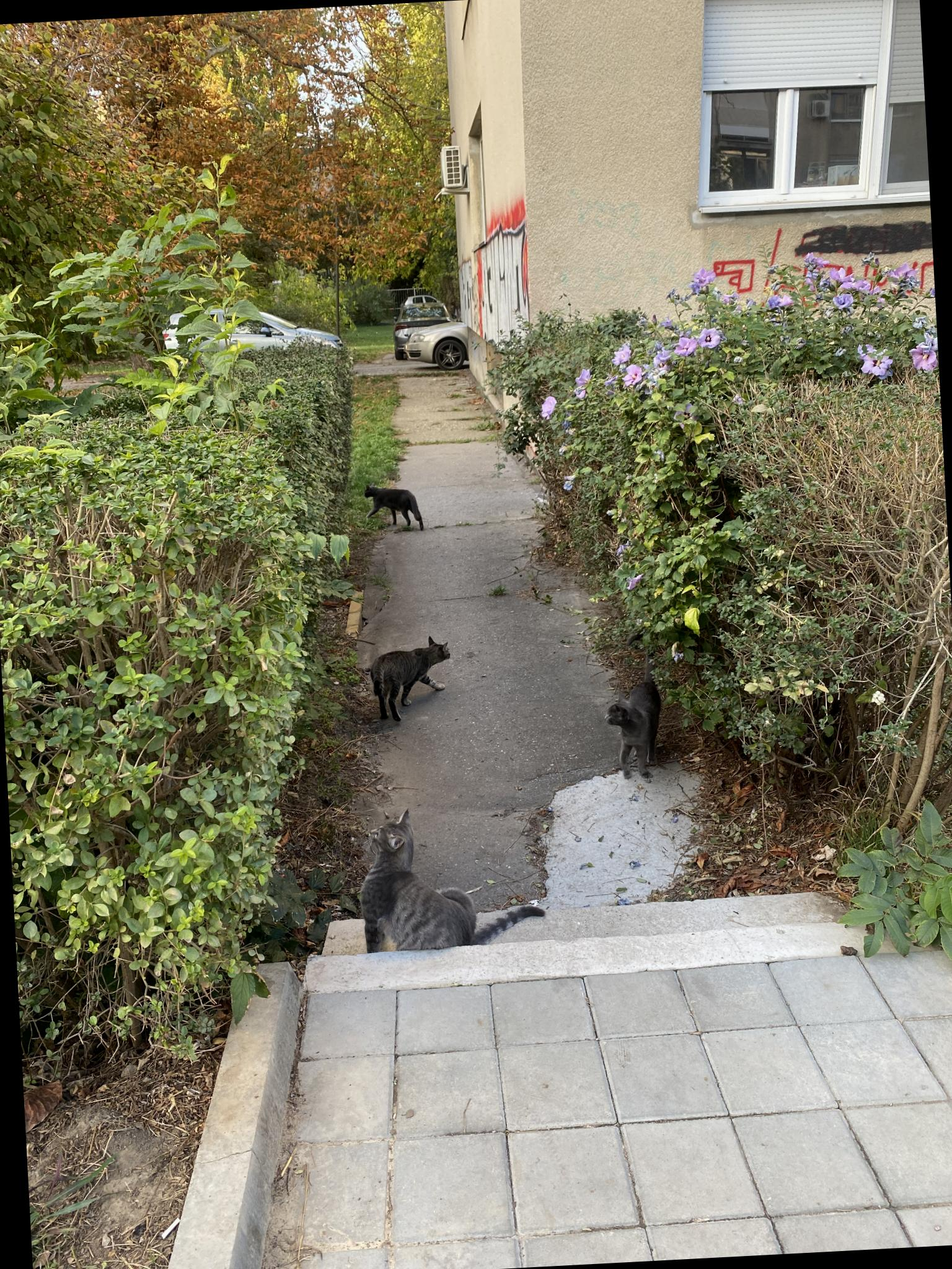macka: (356, 801, 547, 953), (599, 630, 666, 780), (367, 634, 454, 723), (362, 480, 425, 533)
